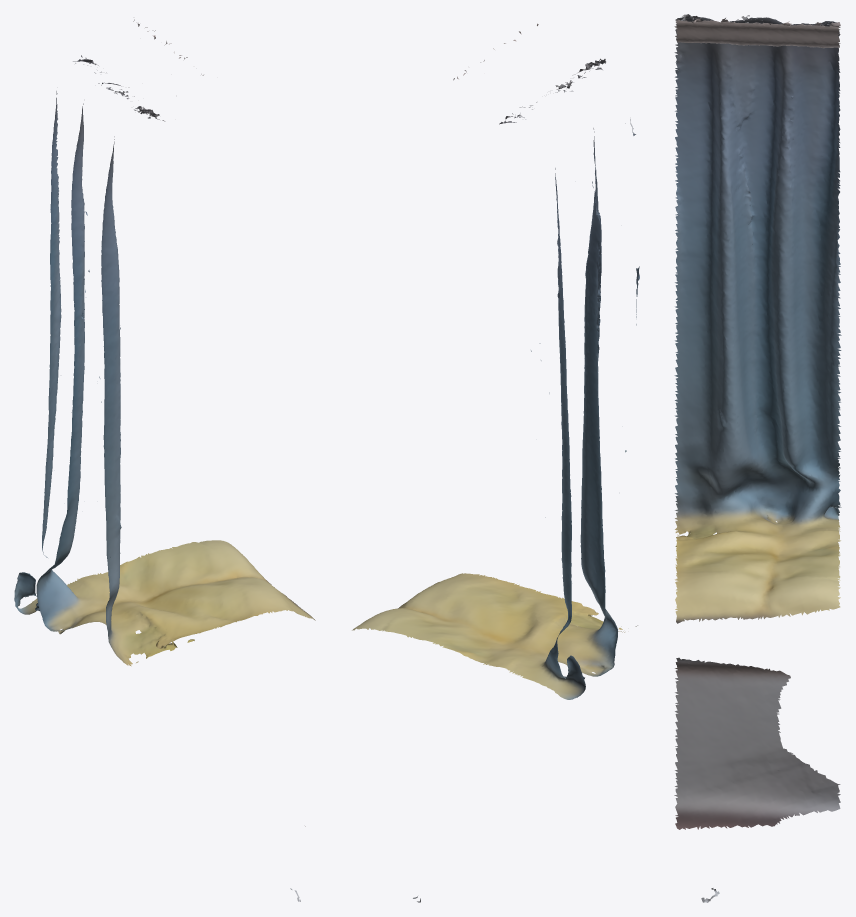
File: apartment-full-3-c115032516a3.glb
The picture shows the model from 3 angles, left to right: view 1: azimuth 30°, elevation 25°; view 2: azimuth 150°, elevation 25°; view 3: azimuth 270°, elevation 25°; orthographic projection. The views are drawn at different scales.
Bounding box in the file's own units: 0.704 × 2.61 × 0.475.
